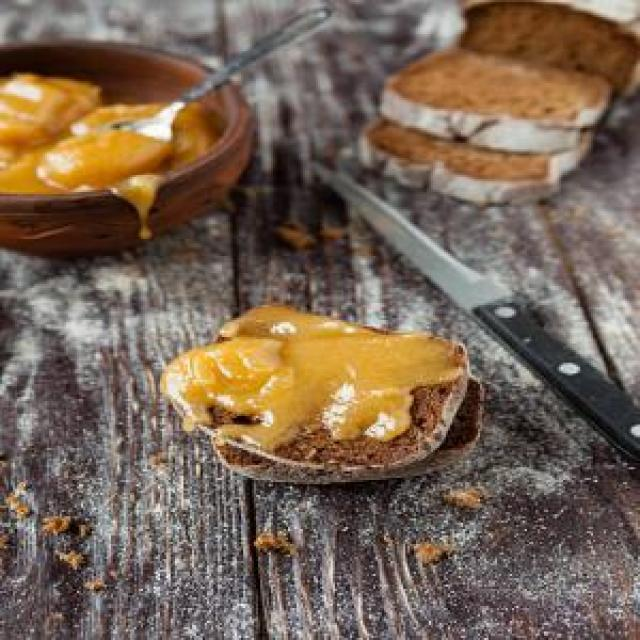knife: (294, 154, 639, 463)
